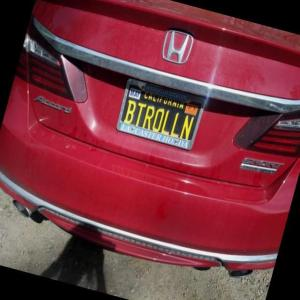Plate: (114, 77, 207, 152)
